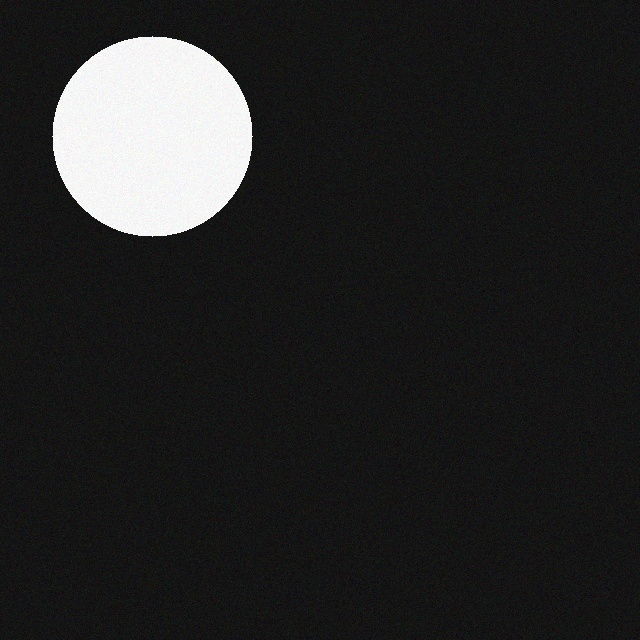circle: (50, 25, 250, 225)
